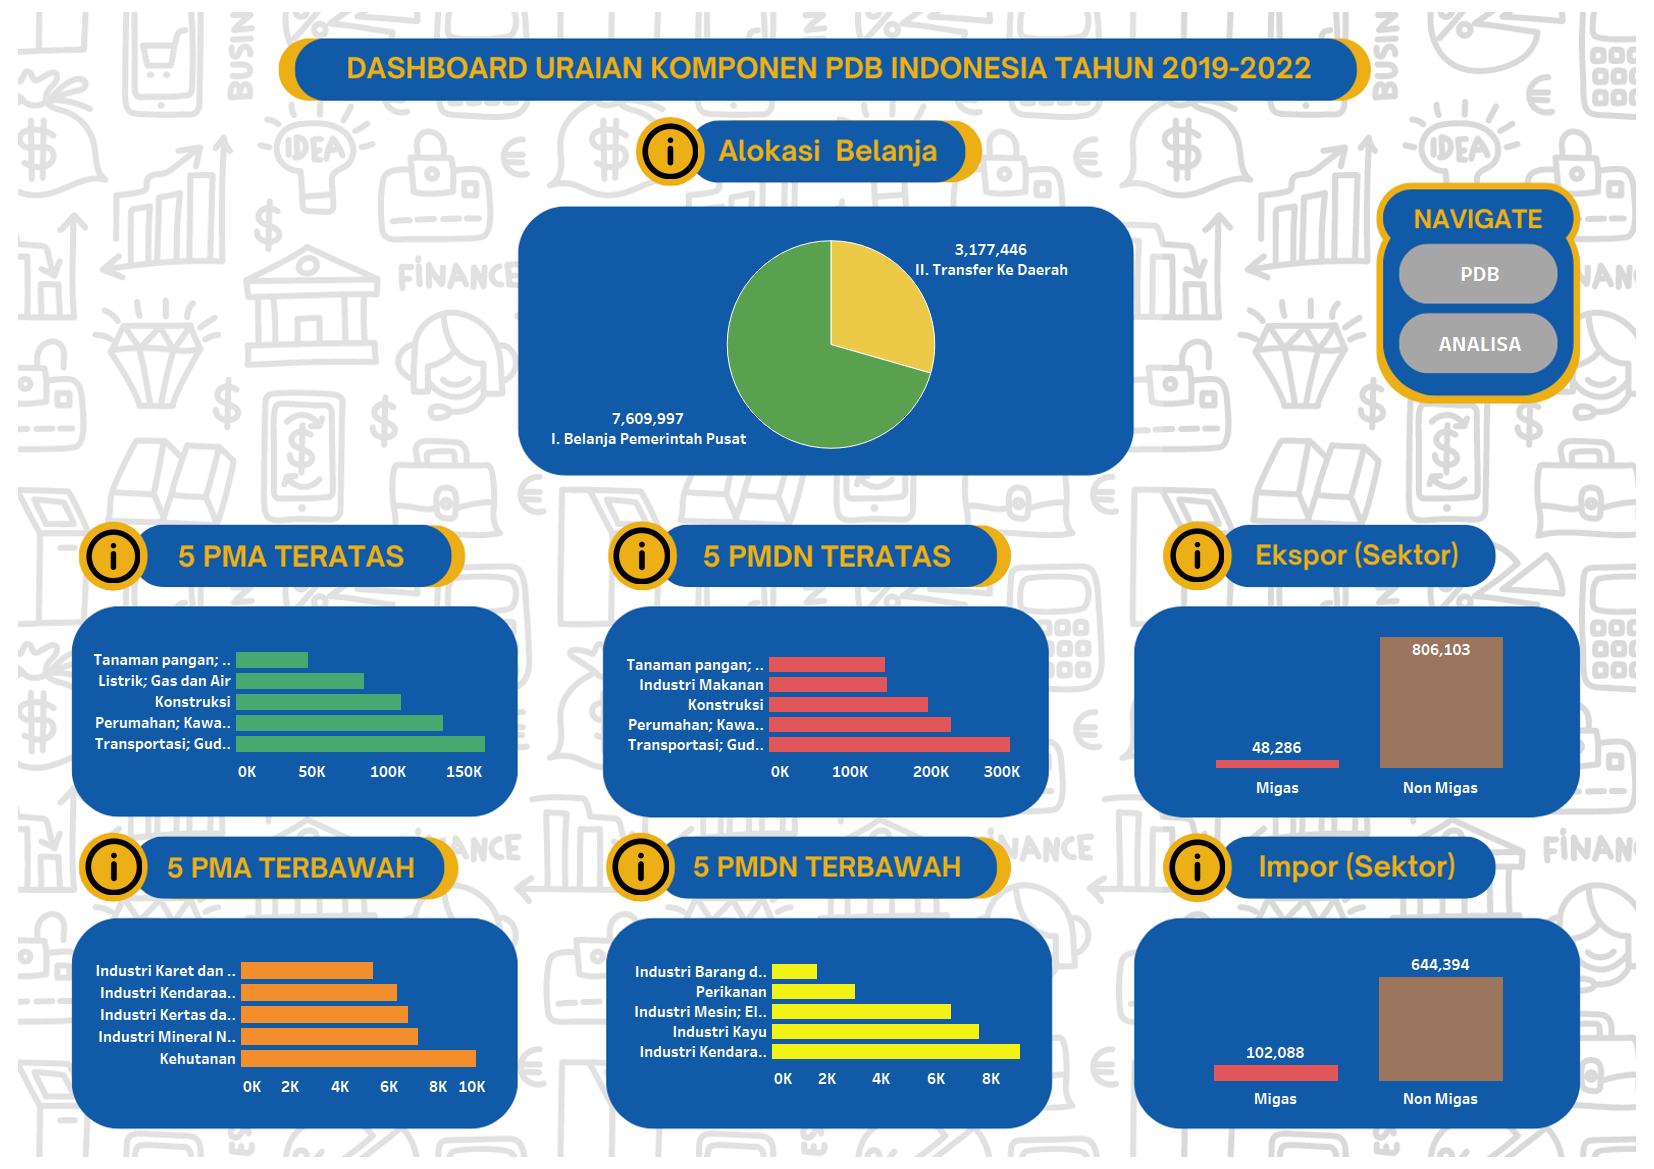

This screenshot's page, from the dashboard's own definition file:
{"tool":"tableau","page":{"name":"URAIAN","canvas":[1654,1169],"ordinal":2},"visuals":[{"type":"image","param":"Image/2.png","box":[8,8,1638,1153]},{"type":"worksheet","title":"alokasi belanja","mark":"Pie","box":[521,122,620,430]},{"type":"dashboard-object","box":[642,123,57,56]},{"type":"blank","box":[536,223,578,60]},{"type":"dashboard-object","box":[1398,247,164,52]},{"type":"text","box":[536,283,578,116]},{"type":"dashboard-object","box":[1398,317,164,52]},{"type":"blank","box":[536,399,578,60]},{"type":"dashboard-object","box":[613,527,58,57]},{"type":"dashboard-object","box":[1170,528,55,54]},{"type":"dashboard-object","box":[86,529,55,54]},{"type":"worksheet","title":"Ekspor migas/ non migas","mark":"Bar","rows":["Calculation_1363464808382132240"],"cols":["Komponen Ekspor dan Impor"],"box":[1196,622,327,192]},{"type":"blank","box":[87,624,416,46]},{"type":"blank","box":[617,626,416,34.5]},{"type":"blank","box":[1149,629,416,46]},{"type":"worksheet","title":"5 PMA Teratas","mark":"Automatic","rows":["Uraian"],"cols":["Calculation_1363464808366333959"],"box":[92,634,405,178]},{"type":"worksheet","title":"5 PMDN Teratas","mark":"Automatic","rows":["Uraian"],"cols":["Calculation_1363464808367030282"],"box":[625,639,397,151]},{"type":"text","box":[617,660.5,416,100]},{"type":"text","box":[87,670,416,77]},{"type":"text","box":[1149,675,416,77]},{"type":"blank","box":[87,747,416,46]},{"type":"blank","box":[1149,752,416,46]},{"type":"blank","box":[617,760.5,416,34.5]},{"type":"dashboard-object","box":[612,837,57,59]},{"type":"dashboard-object","box":[85,838,57,57]},{"type":"dashboard-object","box":[1169,838,56,58]},{"type":"worksheet","title":"Impor migas/non migas","mark":"Bar","rows":["Calculation_1363464808383942675"],"cols":["Komponen Ekspor dan Impor"],"box":[1193,931,331,194]},{"type":"blank","box":[87,939,416,46]},{"type":"blank","box":[621,939,416,32]},{"type":"blank","box":[1149,940,416,46]},{"type":"worksheet","title":"5 PMA Terbawah","mark":"Automatic","rows":["Uraian"],"cols":["Calculation_1363464808366333959"],"box":[93,944,395,168]},{"type":"worksheet","title":"5 PMDN Terbawah","mark":"Automatic","rows":["Uraian"],"cols":["Calculation_1363464808367030282"],"box":[632,946,400,161]},{"type":"text","box":[621,971,416,105]},{"type":"text","box":[87,985,416,77]},{"type":"text","box":[1149,986,416,77]},{"type":"blank","box":[87,1062,416,46]},{"type":"blank","box":[1149,1063,416,46]},{"type":"blank","box":[621,1076,416,32]}]}

Visuals, with their boxes in screenshot pixels (x1, y1, x2, y2), scaled from the page's 1654x1169 canvas onto the 1654x1169 screenshot:
image: select_region(8, 8, 1646, 1161)
"alokasi belanja" worksheet (Pie marks): select_region(521, 122, 1141, 552)
dashboard-object: select_region(642, 123, 699, 179)
blank: select_region(536, 223, 1114, 283)
dashboard-object: select_region(1398, 247, 1562, 299)
text: select_region(536, 283, 1114, 399)
dashboard-object: select_region(1398, 317, 1562, 369)
blank: select_region(536, 399, 1114, 459)
dashboard-object: select_region(613, 527, 671, 584)
dashboard-object: select_region(1170, 528, 1225, 582)
dashboard-object: select_region(86, 529, 141, 583)
"Ekspor migas/ non migas" worksheet (Bar marks): select_region(1196, 622, 1523, 814)
blank: select_region(87, 624, 503, 670)
blank: select_region(617, 626, 1033, 660)
blank: select_region(1149, 629, 1565, 675)
"5 PMA Teratas" worksheet: select_region(92, 634, 497, 812)
"5 PMDN Teratas" worksheet: select_region(625, 639, 1022, 790)
text: select_region(617, 660, 1033, 760)
text: select_region(87, 670, 503, 747)
text: select_region(1149, 675, 1565, 752)
blank: select_region(87, 747, 503, 793)
blank: select_region(1149, 752, 1565, 798)
blank: select_region(617, 760, 1033, 795)
dashboard-object: select_region(612, 837, 669, 896)
dashboard-object: select_region(85, 838, 142, 895)
dashboard-object: select_region(1169, 838, 1225, 896)
"Impor migas/non migas" worksheet (Bar marks): select_region(1193, 931, 1524, 1125)
blank: select_region(87, 939, 503, 985)
blank: select_region(621, 939, 1037, 971)
blank: select_region(1149, 940, 1565, 986)
"5 PMA Terbawah" worksheet: select_region(93, 944, 488, 1112)
"5 PMDN Terbawah" worksheet: select_region(632, 946, 1032, 1107)
text: select_region(621, 971, 1037, 1076)
text: select_region(87, 985, 503, 1062)
text: select_region(1149, 986, 1565, 1063)
blank: select_region(87, 1062, 503, 1108)
blank: select_region(1149, 1063, 1565, 1109)
blank: select_region(621, 1076, 1037, 1108)
